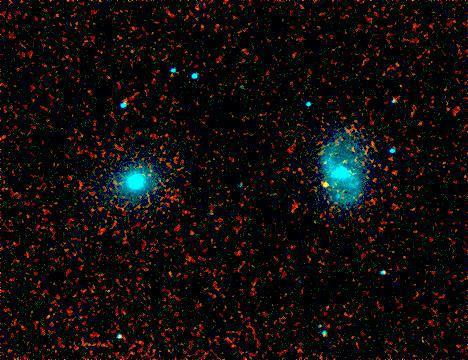star: (310, 170, 340, 200)
